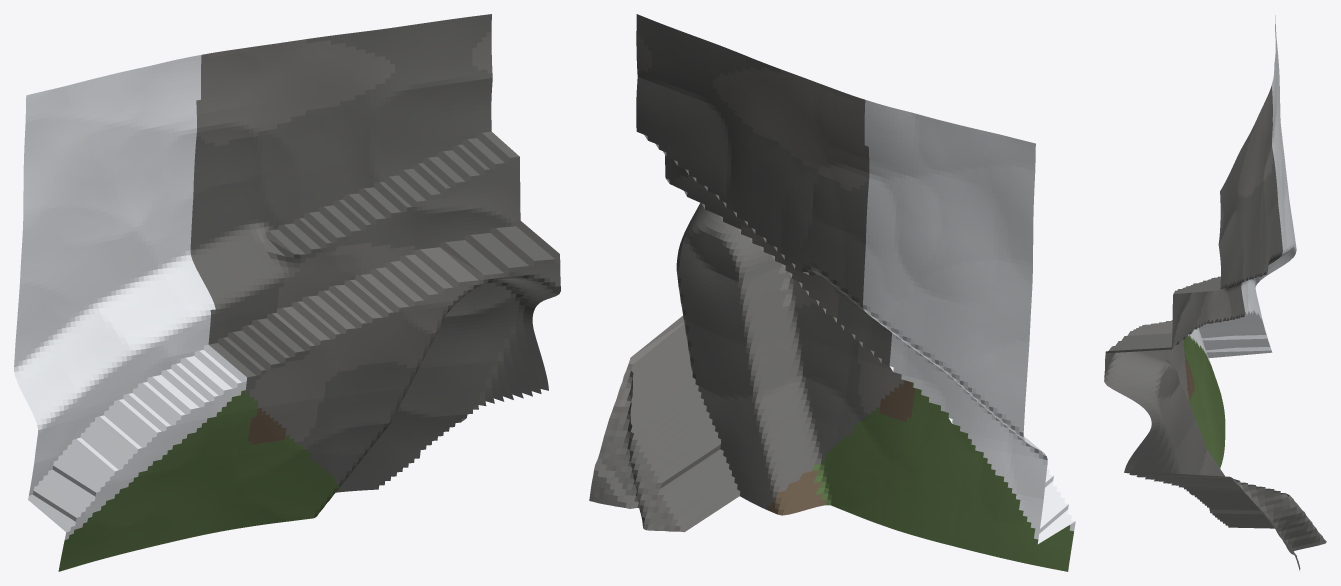
Rendered from SARM_SAR_Terrain_03_05.glb.
3 views of the same model, side by side, from view 1: azimuth 30°, elevation 25°; view 2: azimuth 150°, elevation 25°; view 3: azimuth 270°, elevation 25° (orthographic). The views are drawn at different scales.
Parts seen in each view (by area): view 1: SAR_Terrain_03_05.001; view 2: SAR_Terrain_03_05.001; view 3: SAR_Terrain_03_05.001.
Boxes of the visible parts, bbox=[...] form: SAR_Terrain_03_05.001: bbox=[14, 14, 560, 571]; SAR_Terrain_03_05.001: bbox=[589, 14, 1075, 571]; SAR_Terrain_03_05.001: bbox=[1104, 15, 1326, 570].
Size of the model in its own units: 50 by 50 by 26.53.
